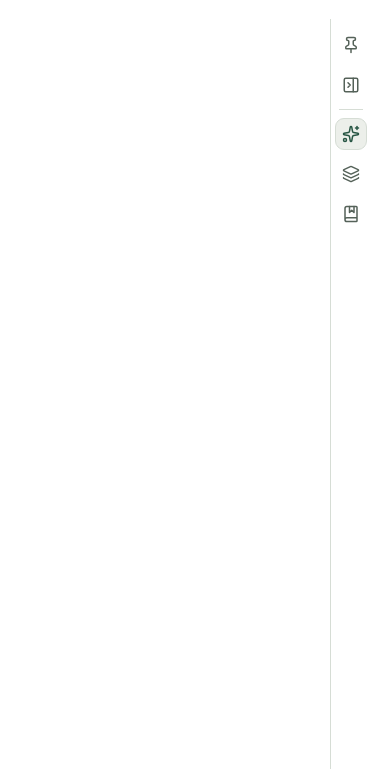
Test: ResearchSidebar › keeps highlights manual without mounting automatic generation
The width and height of the screenshot is (382, 769).
Click the button named "카드 모드" at (350, 174), box top-left (334, 158), bottom-right (366, 190)
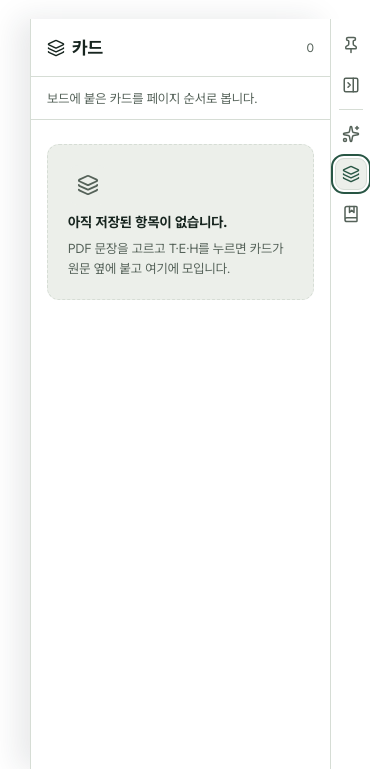
Now the element named "카드 인덱스" is shown
